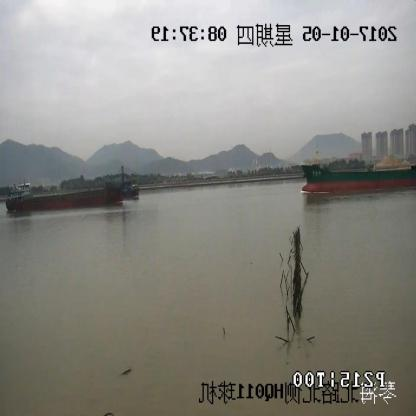Bulk Carrier: (7, 168, 138, 212), (300, 146, 416, 194)
